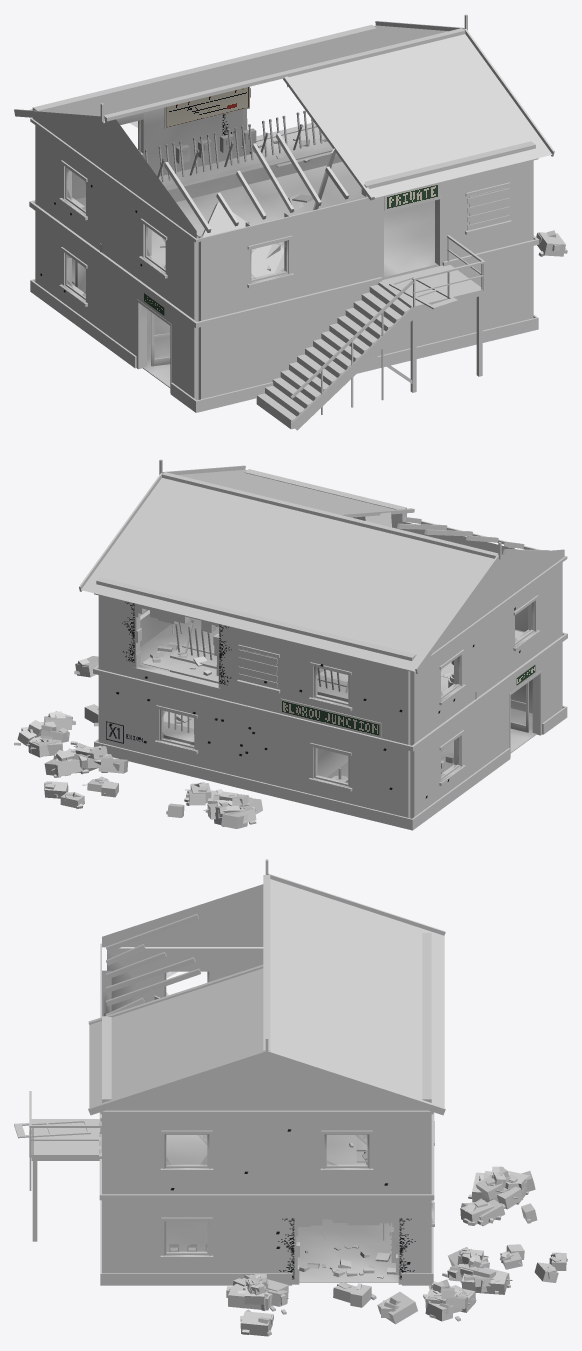
Rendered from signal_box.glb.
3 renders of one model, top to bottom at view 1: azimuth 30°, elevation 25°; view 2: azimuth 150°, elevation 25°; view 3: azimuth 270°, elevation 25°, orthographic. The views are drawn at different scales.
Visible parts, largest first — view 1: signal_box; view 2: signal_box; view 3: signal_box.
Part boxes in pixels (x1=…): signal_box: x1=14, y1=14, x2=567, y2=430; signal_box: x1=14, y1=459, x2=567, y2=830; signal_box: x1=14, y1=859, x2=567, y2=1336.
Size of the model in its own units: 16.58 by 8.97 by 17.31.
Materials: 4 (3 with a texture image).
